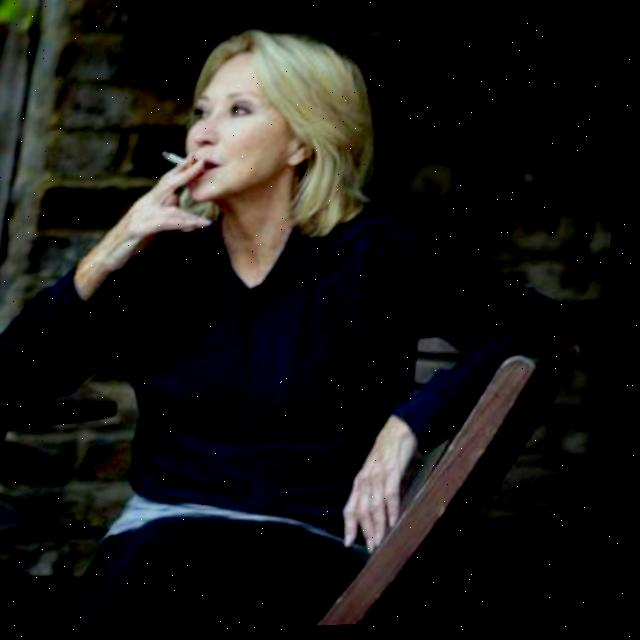cigarette: (160, 151, 193, 168)
